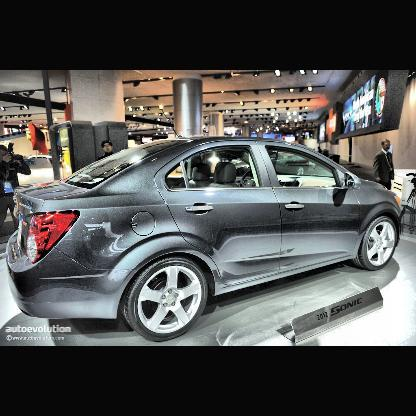Chevrolet Sonic Sedan 2012: (6, 134, 400, 343)
